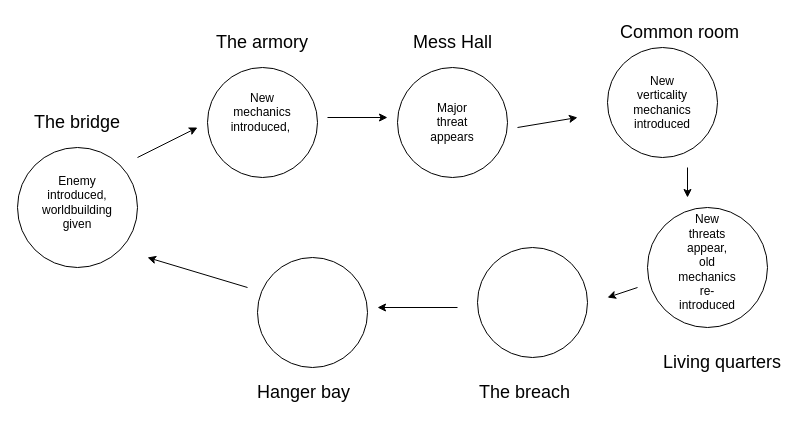
Image size: 805x424. Some labels were removed from this diagram. Each missing label, with the centre of its shape:
"Boss/mini boss introduced Place to leave level appears" goes at [312,312].
"Mini boss appears Old enemy type introduced in new setting" goes at [532,302].
